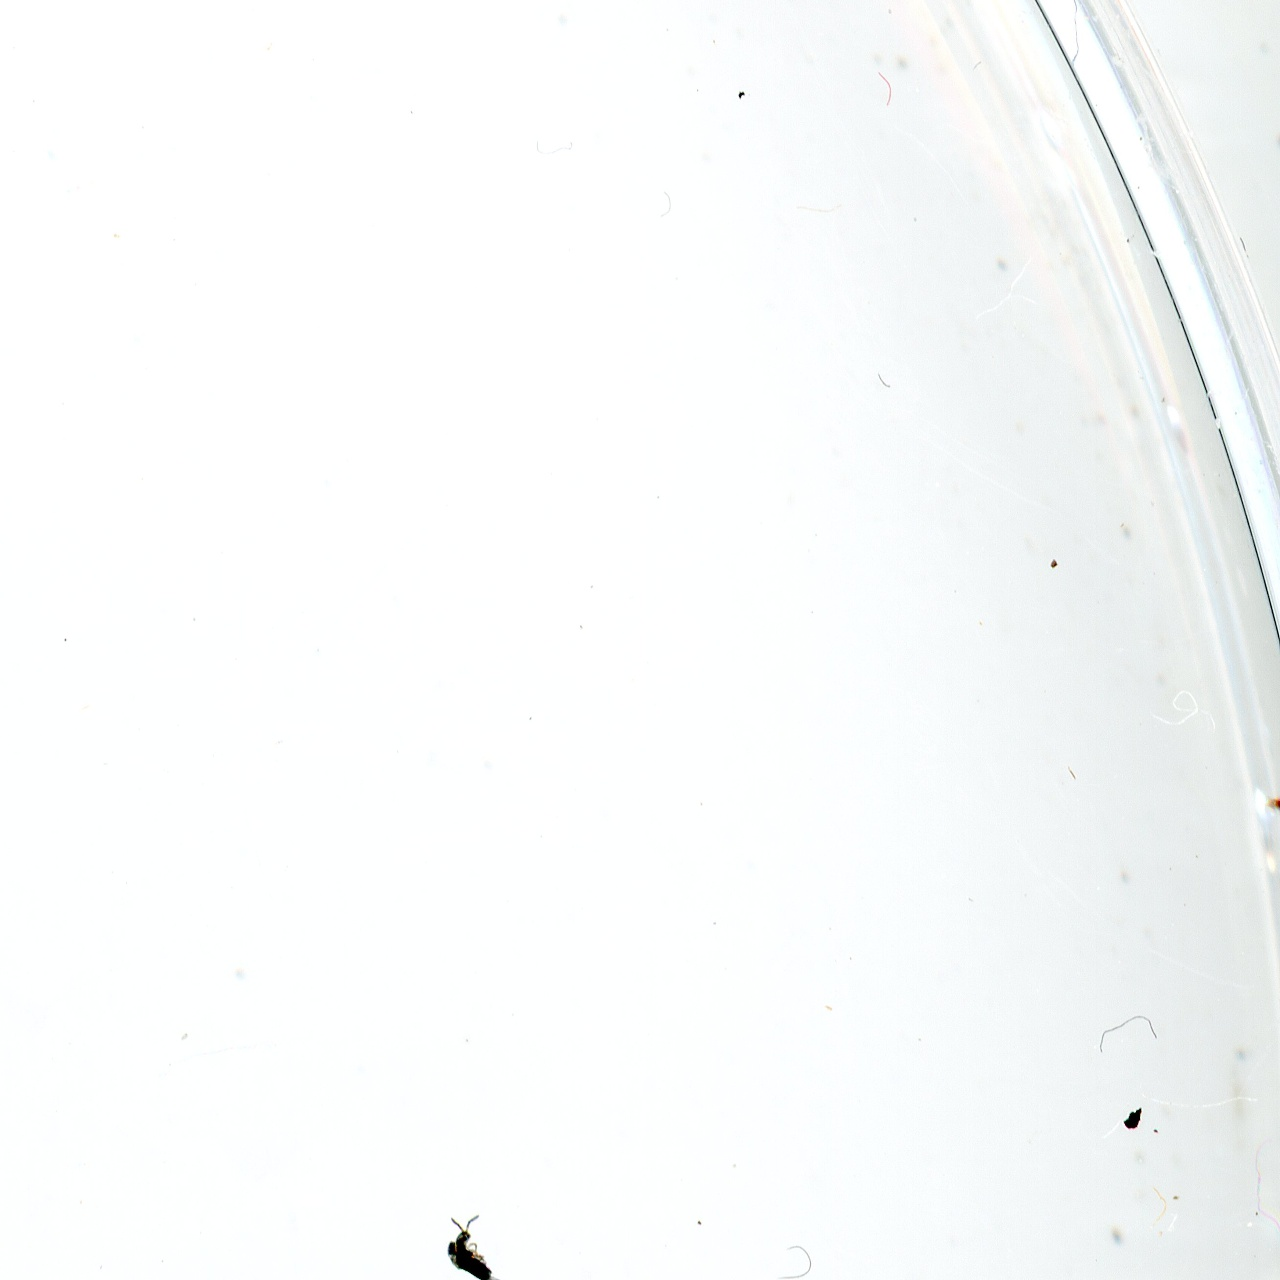arthropod: (435, 1208, 530, 1280)
